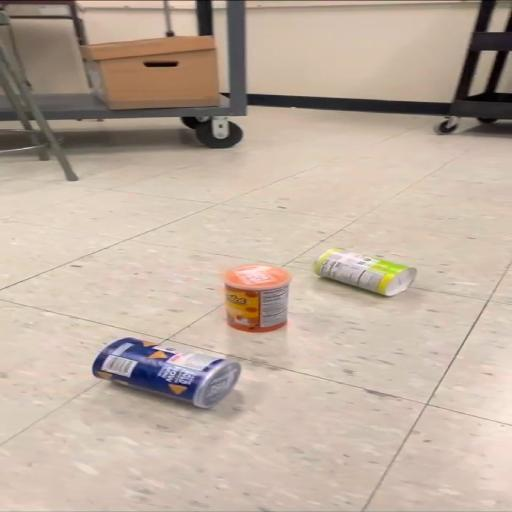pringle can: (92, 338, 241, 408), (314, 249, 417, 296), (226, 265, 291, 332)
